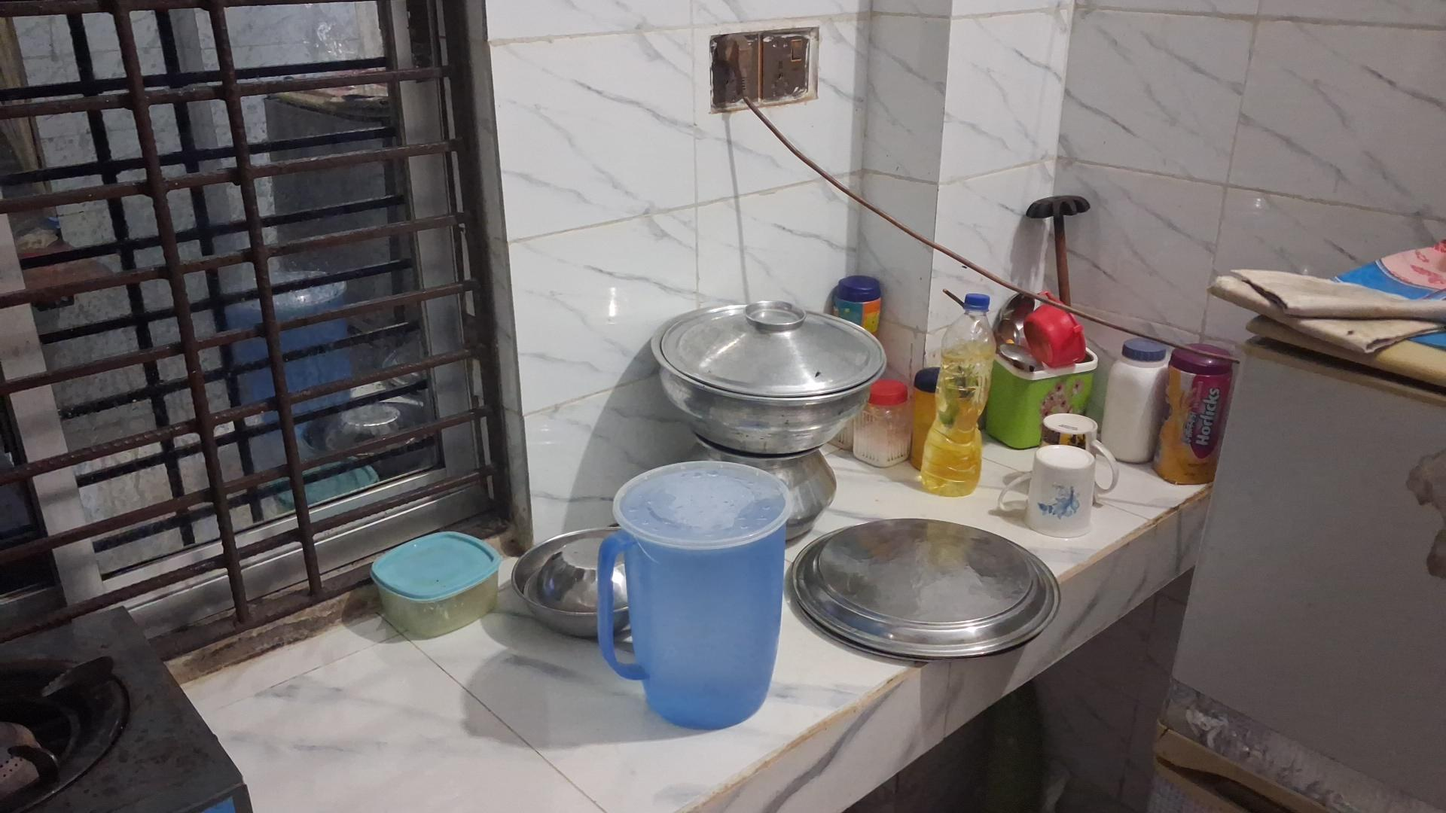Bottle: (920, 291, 996, 499), (934, 292, 996, 435)
Bowl: (511, 524, 625, 638)
Cup: (1031, 444, 1104, 538)
Jar: (370, 530, 501, 639), (1158, 349, 1234, 489), (1097, 335, 1168, 467), (852, 377, 914, 467)
Jug: (615, 459, 788, 730)
Plate: (790, 517, 1063, 665)
Pot: (650, 299, 888, 457)
Window: (0, 0, 528, 657)
